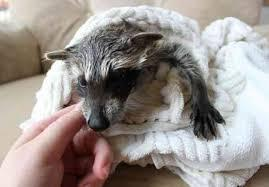raccoon: (36, 14, 231, 147)
